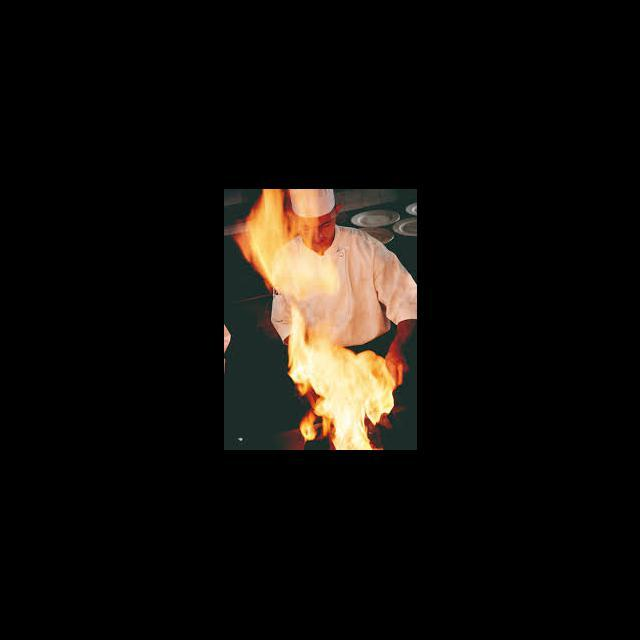Fire: (278, 306, 390, 450), (236, 190, 336, 328)
